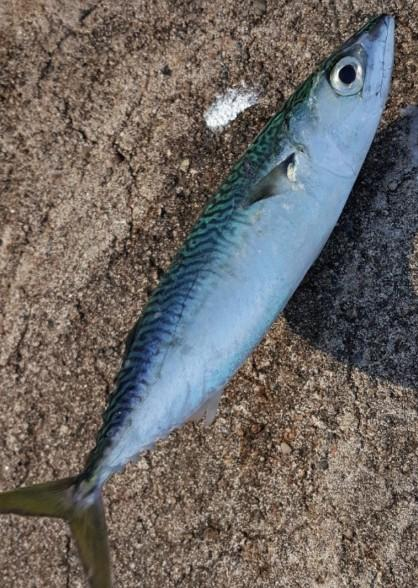fish: (0, 14, 393, 587)
